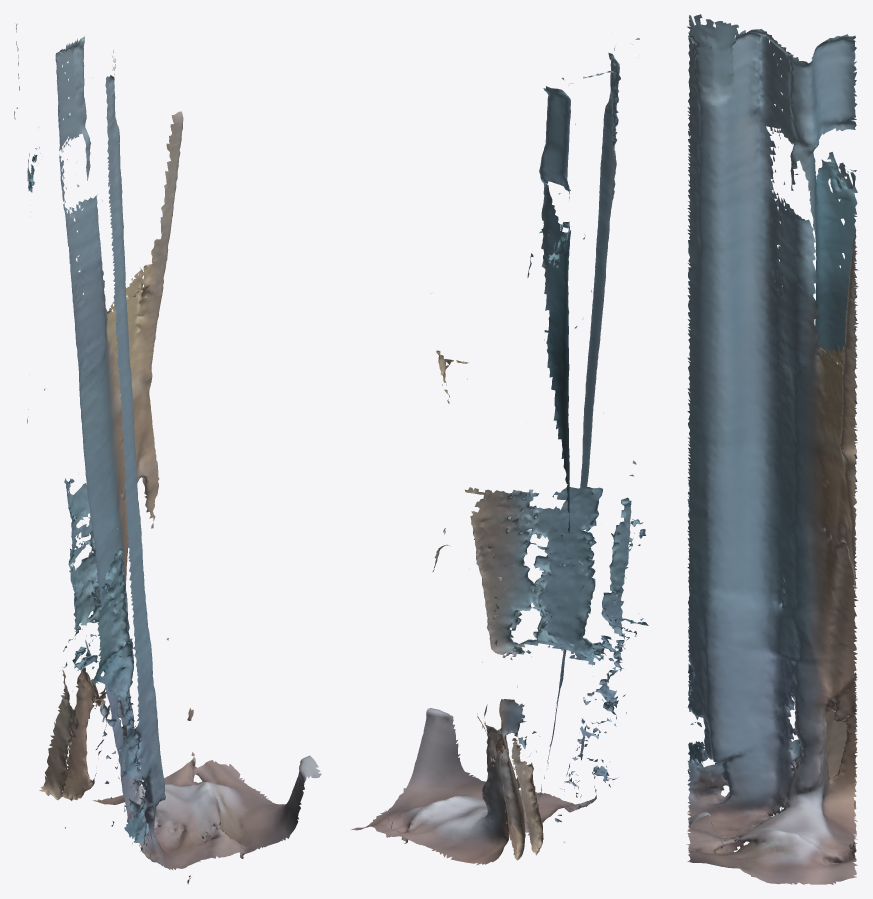
File: apartment-full-16-ed3d986527cb.glb
3 renders of one model, left to right at view 1: azimuth 30°, elevation 25°; view 2: azimuth 150°, elevation 25°; view 3: azimuth 270°, elevation 25°, orthographic. The views are drawn at different scales.
Size of the model in its own units: 0.555 by 1.97 by 0.388.
